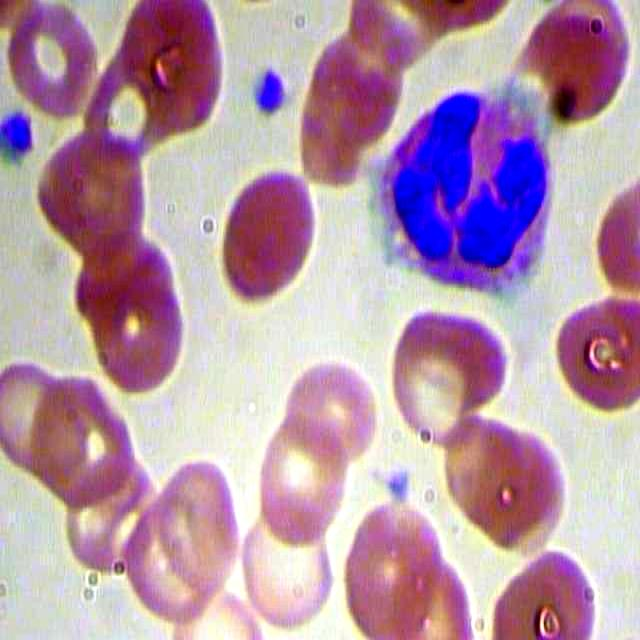Platelets: (253, 63, 294, 125), (1, 100, 34, 164)
RBC: (429, 401, 570, 560), (206, 166, 333, 314), (31, 131, 155, 260), (237, 481, 341, 631), (513, 1, 633, 131), (252, 408, 356, 557), (340, 496, 445, 640), (146, 454, 249, 594), (307, 14, 410, 154), (32, 362, 135, 502), (390, 301, 508, 415), (87, 268, 186, 399), (2, 1, 98, 128), (284, 344, 380, 459), (487, 544, 600, 640)
WBC: (365, 86, 564, 310)
